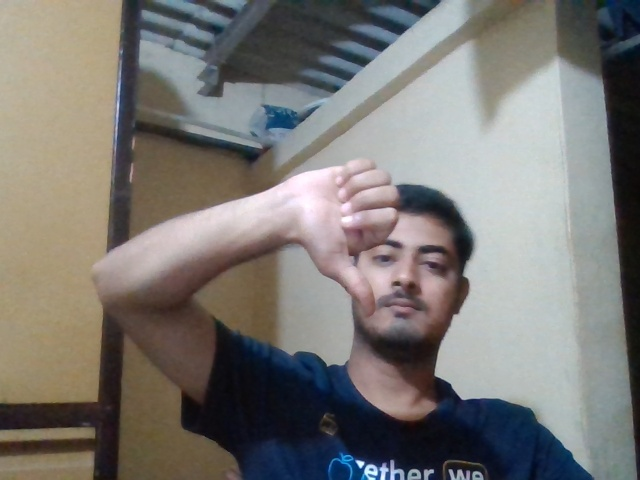ThumbsDown: (296, 158, 399, 321)
